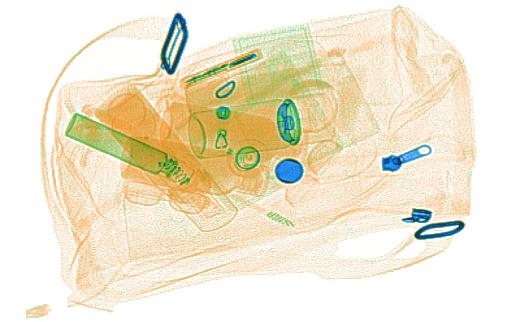plasticBottleWithaNozzle: (94, 84, 236, 231)
pressure: (186, 91, 336, 160)
